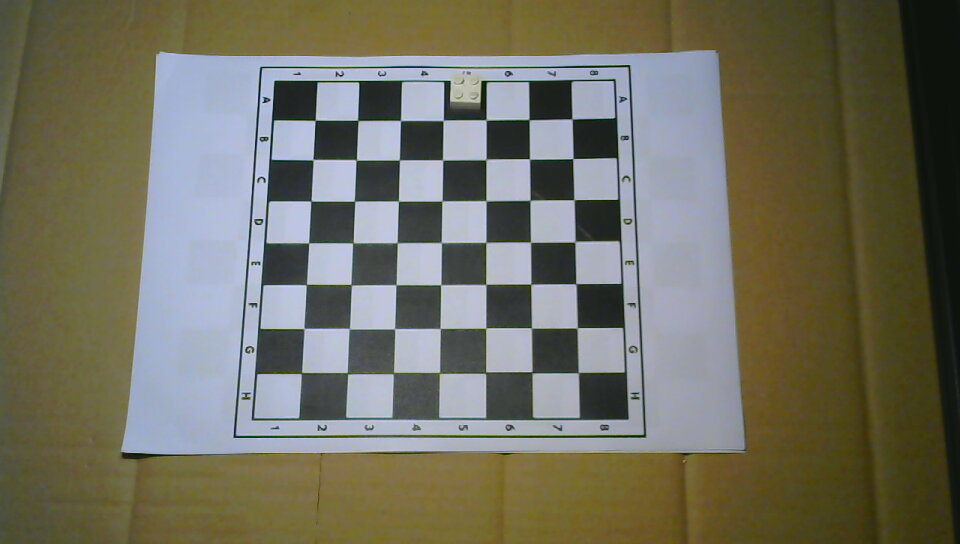wp: (448, 74, 482, 113)
